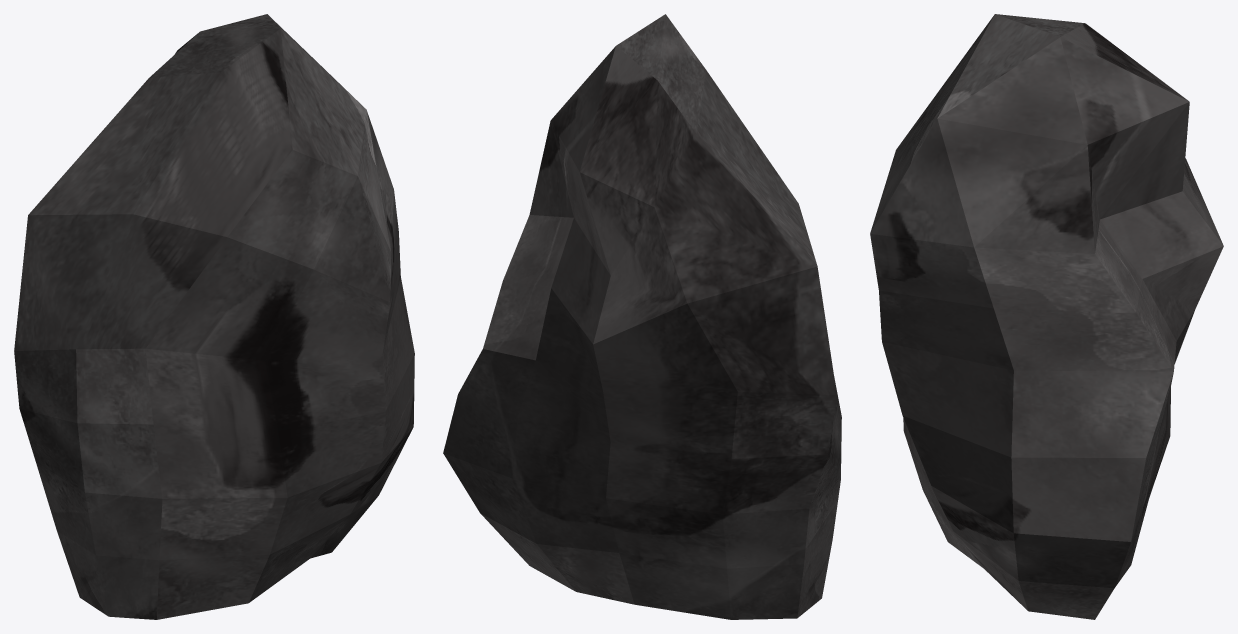
The model's file is PedrasGrande.fbx.
3 views of the same model, side by side, from view 1: azimuth 30°, elevation 25°; view 2: azimuth 150°, elevation 25°; view 3: azimuth 270°, elevation 25° (orthographic). The views are drawn at different scales.
Visible parts, largest first — view 1: PedraGrande; view 2: PedraGrande; view 3: PedraGrande.
Boxes of the visible parts, x1=… form: PedraGrande: x1=14, y1=14, x2=414, y2=619; PedraGrande: x1=443, y1=14, x2=841, y2=619; PedraGrande: x1=870, y1=14, x2=1223, y2=619.
Size of the model in its own units: 2077 by 2932 by 1635.
